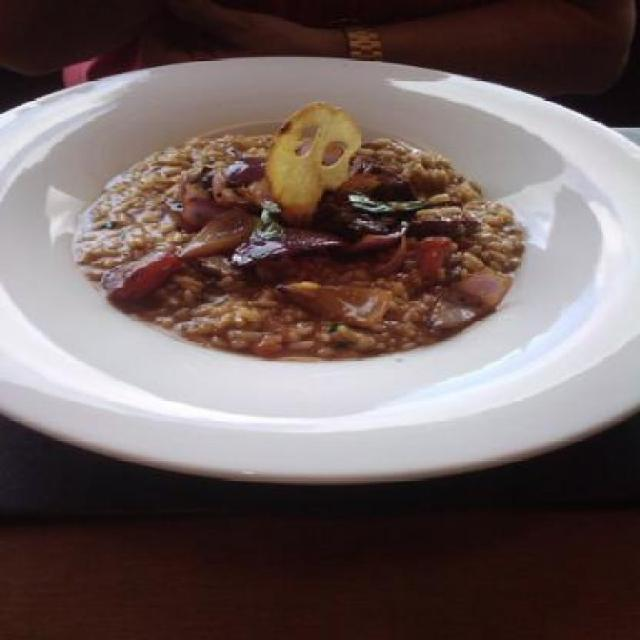Risotto: (66, 116, 508, 347)
